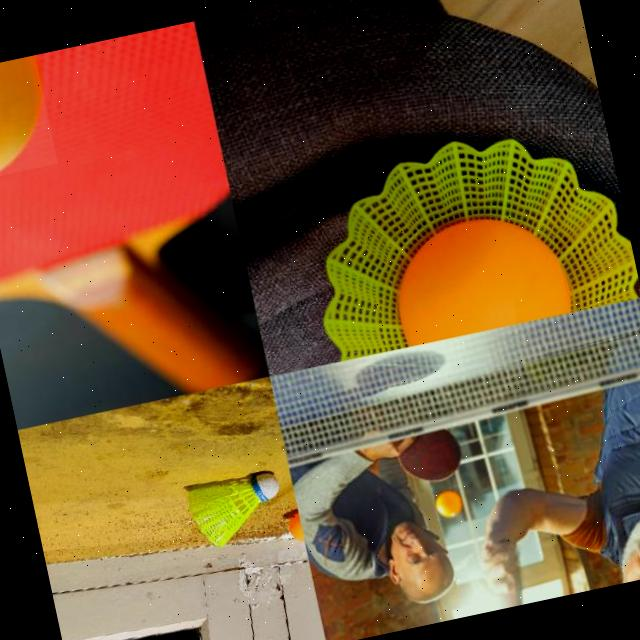ping-pong-ball: (384, 202, 570, 346), (0, 53, 57, 182), (430, 487, 463, 520), (284, 512, 302, 546)
